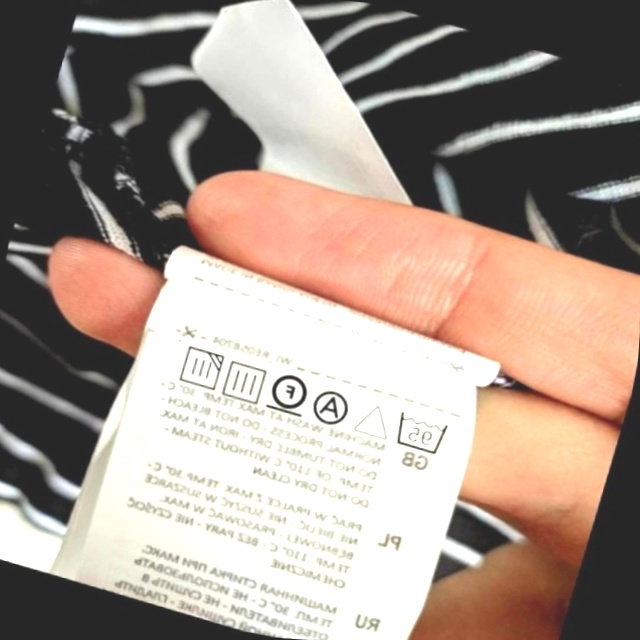95C: (387, 405, 454, 460)
bleach: (351, 394, 398, 445)
drip_dry: (217, 354, 272, 408)
drip_dry_in_shade: (170, 339, 228, 396)
dry_clean: (308, 384, 357, 431)
dry_clean_petrol_only: (263, 364, 315, 421)
